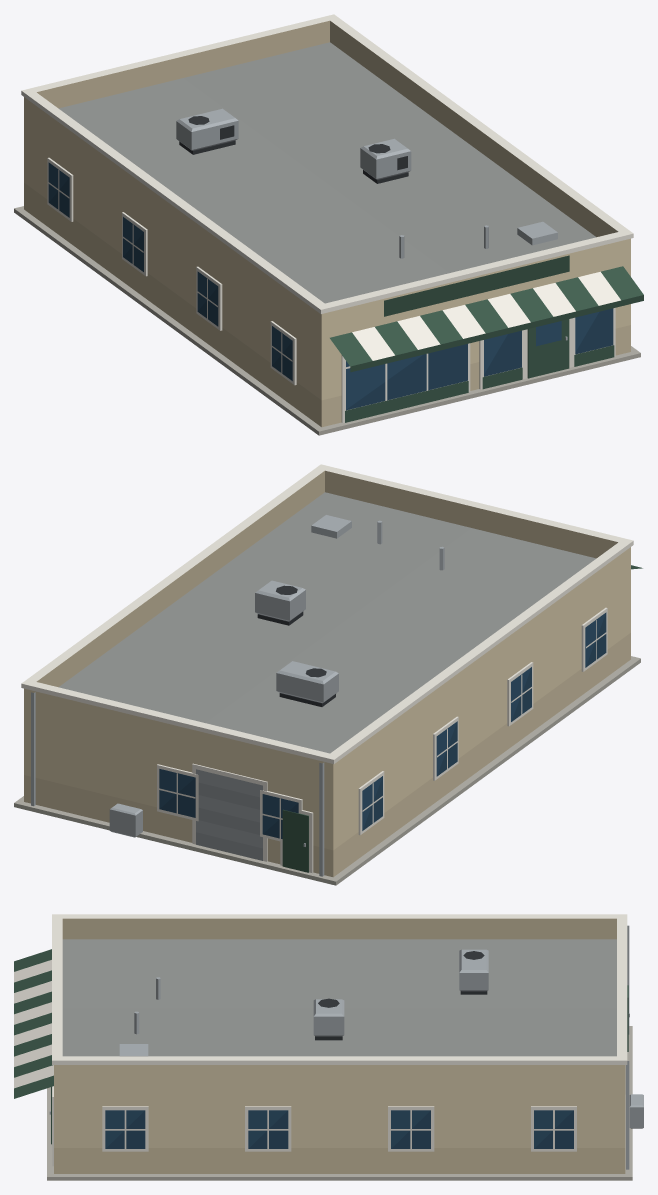
Rendered from store_12x20.glb.
The picture shows the model from 3 angles, top to bottom: view 1: azimuth 30°, elevation 25°; view 2: azimuth 150°, elevation 25°; view 3: azimuth 270°, elevation 25°; orthographic projection. The views are drawn at different scales.
Parts seen in each view (by area): view 1: block; view 2: block; view 3: block.
Boxes of the visible parts, <box> form: block: <box>14,14,643,435</box>; block: <box>14,464,642,885</box>; block: <box>14,914,643,1180</box>.
Size of the model in its own units: 12.5 by 4.78 by 22.05.
